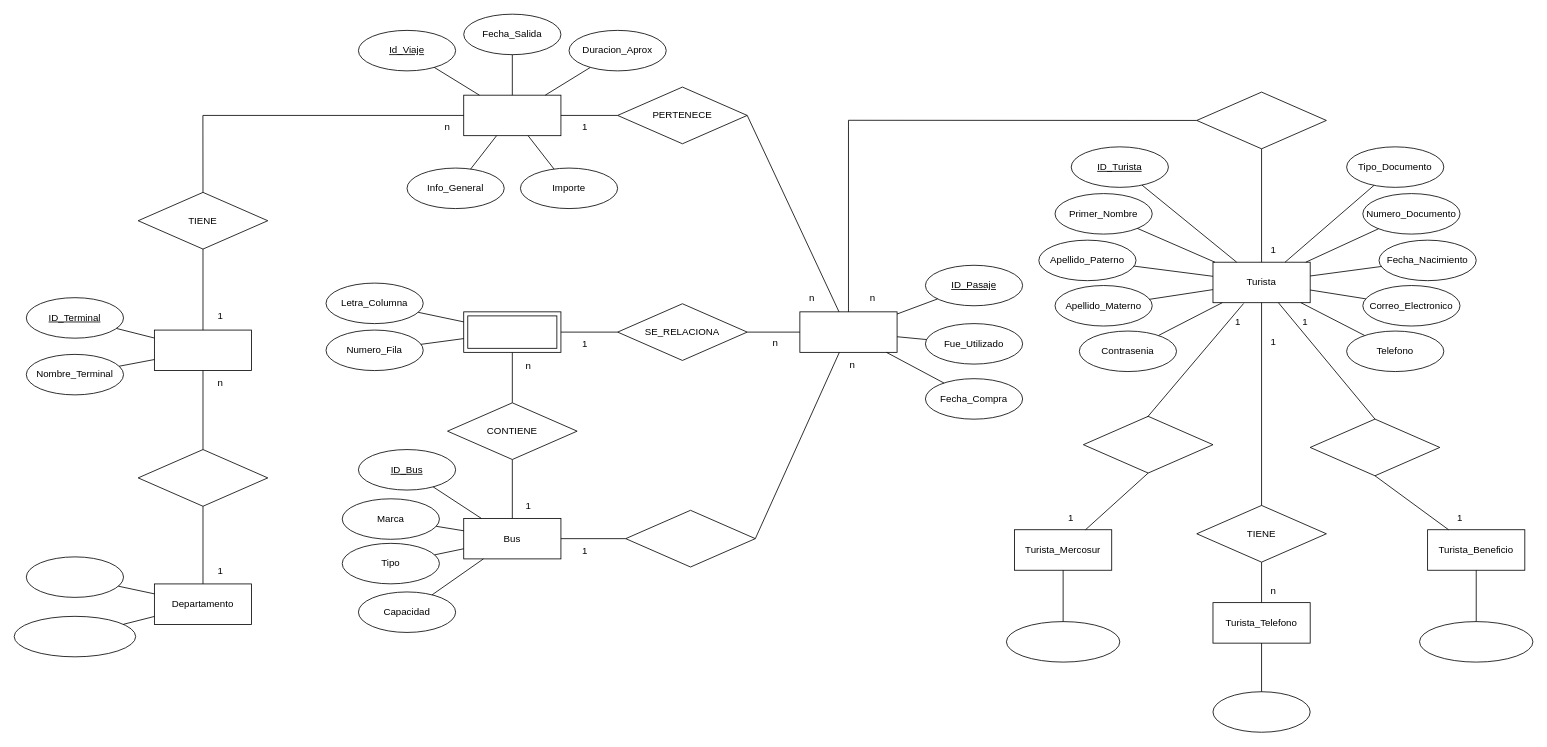
The diagram is 1547 pixels wide and 747 high, and some of its shapes have lost their labels. Here are the shapes that lost their labels. From the top down, the centre of each, then its label:
point (512, 115): Viaje
point (1261, 120): COMPRA
point (203, 350): Terminal
point (512, 331): Asiento
point (848, 331): Pasaje
point (1148, 444): ES
point (1374, 447): SE_BENEFICIA_DE
point (202, 477): SE_ENCUENTRA_EN
point (690, 538): LE_CORRESPONDE
point (75, 576): ID_Departamento
point (74, 636): Nombre_Departamento
point (1063, 641): Es_Turista_Mercosur
point (1476, 641): Descripcion_Beneficio
point (1261, 711): Telefono_Turista
